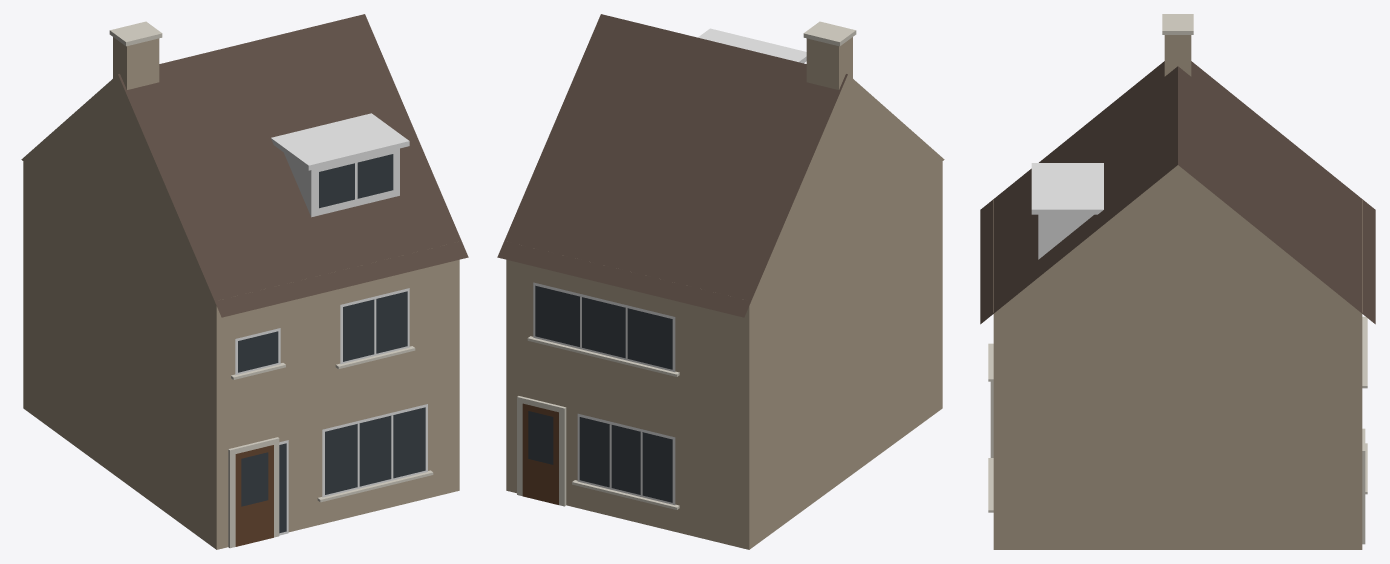
Rendered from ws-dk-1986__brown__2__gable__long__solid.glb.
3 renders of one model, left to right at view 1: azimuth 30°, elevation 25°; view 2: azimuth 150°, elevation 25°; view 3: azimuth 270°, elevation 25°, orthographic. The views are drawn at different scales.
Parts seen in each view (by area): view 1: ws-dk-1986__brown__2__gable__long__solid; view 2: ws-dk-1986__brown__2__gable__long__solid; view 3: ws-dk-1986__brown__2__gable__long__solid.
Boxes of the visible parts, left/top/right/bottom form: ws-dk-1986__brown__2__gable__long__solid: left=21, top=14, right=468, bottom=549; ws-dk-1986__brown__2__gable__long__solid: left=497, top=14, right=944, bottom=549; ws-dk-1986__brown__2__gable__long__solid: left=980, top=14, right=1375, bottom=549.
Bounding box in the file's own units: 6.12 × 10.5 × 8.9.
